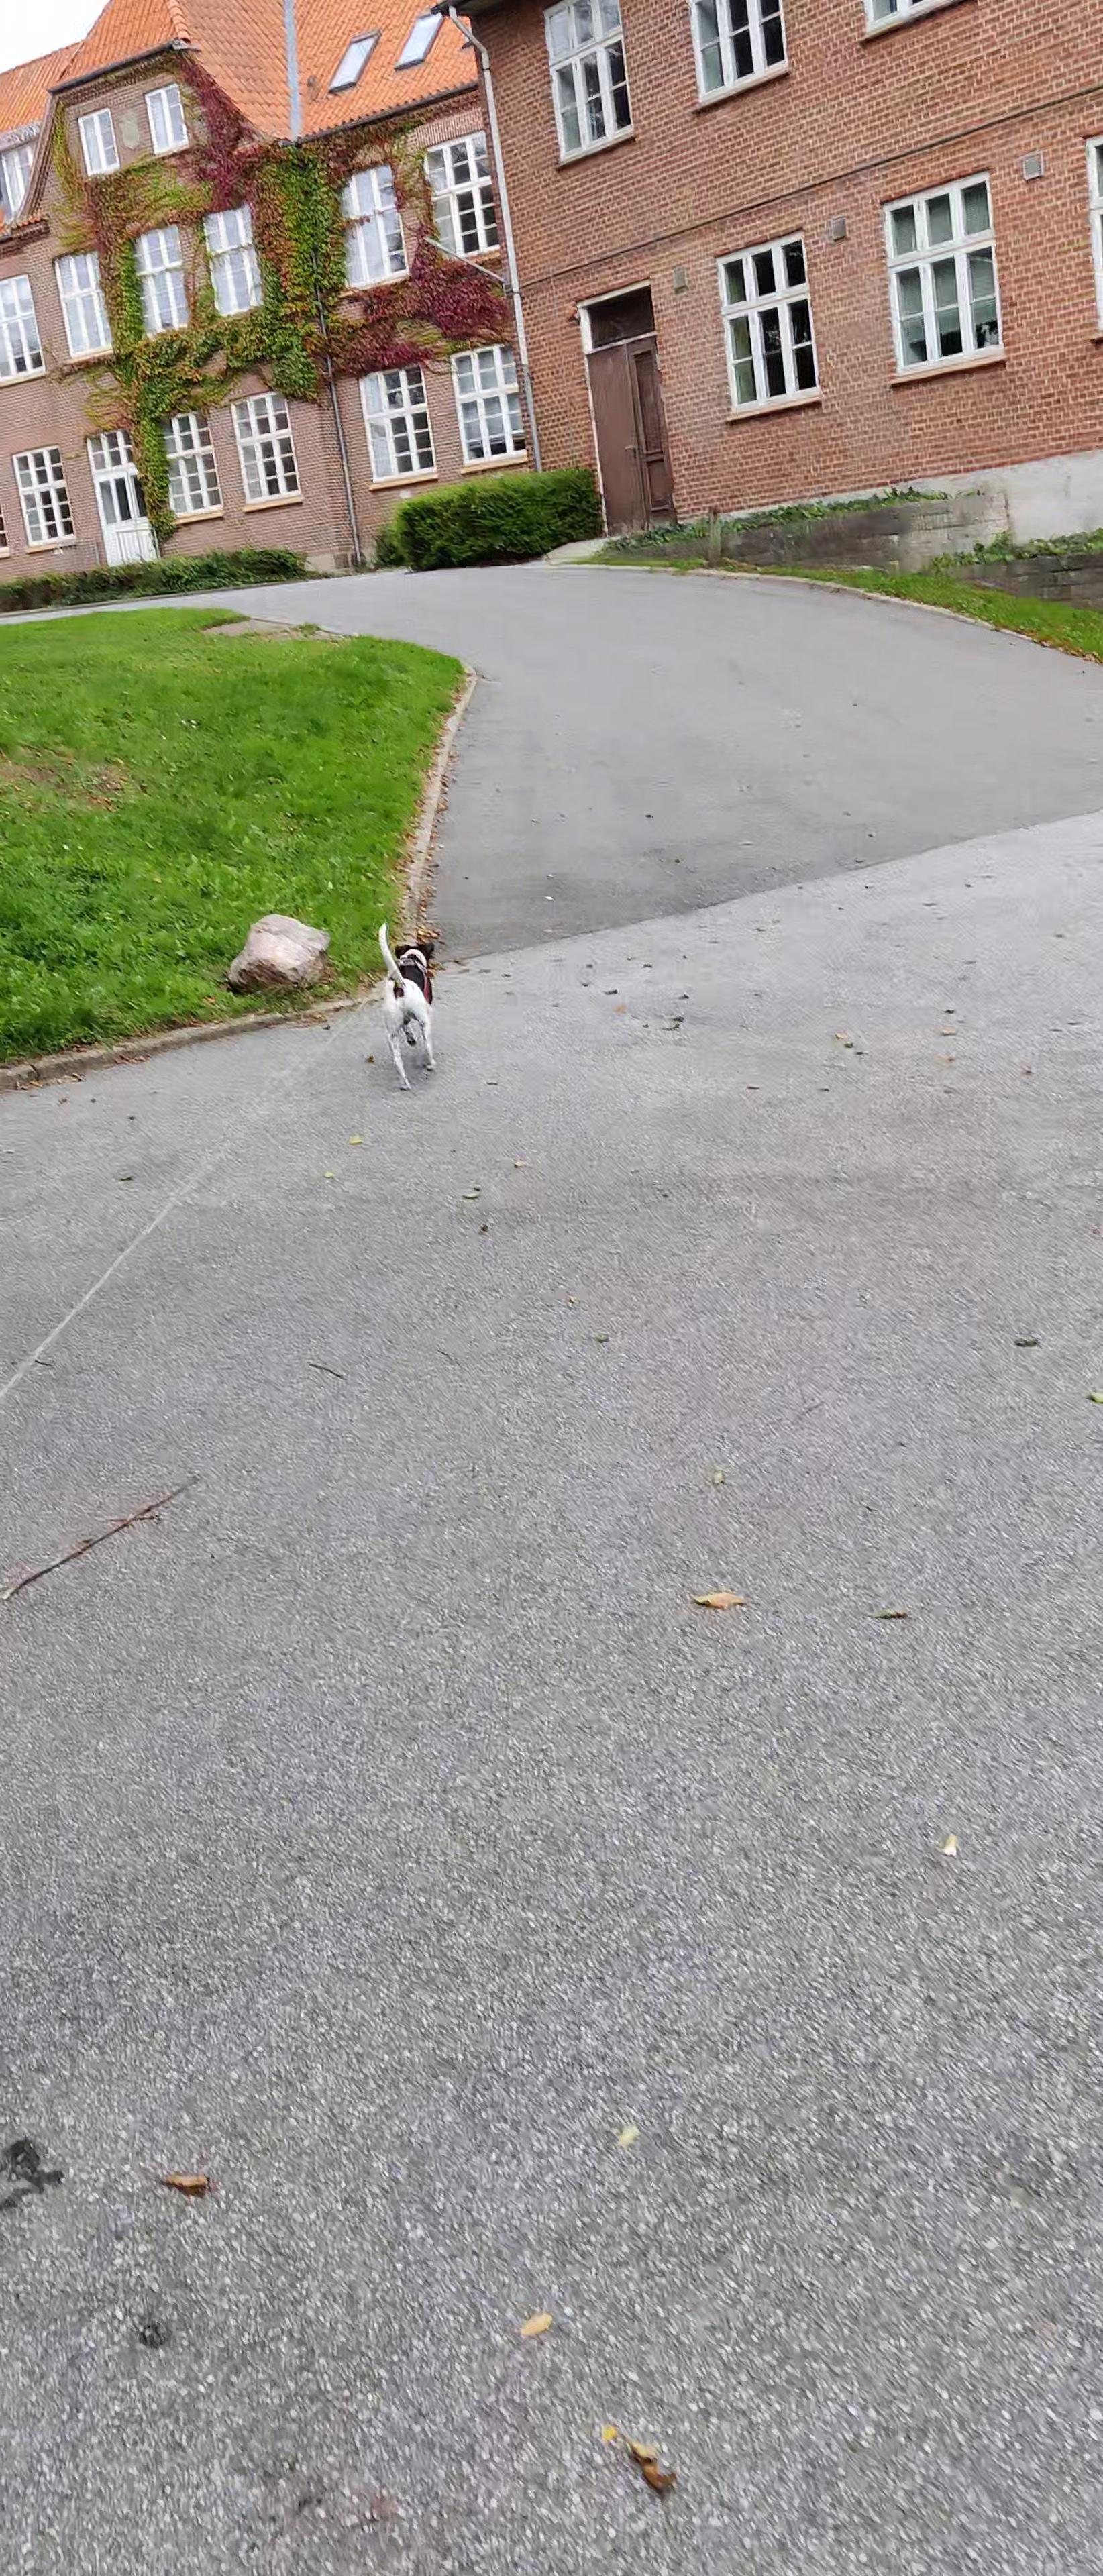Dog: (370, 915, 452, 1099)
